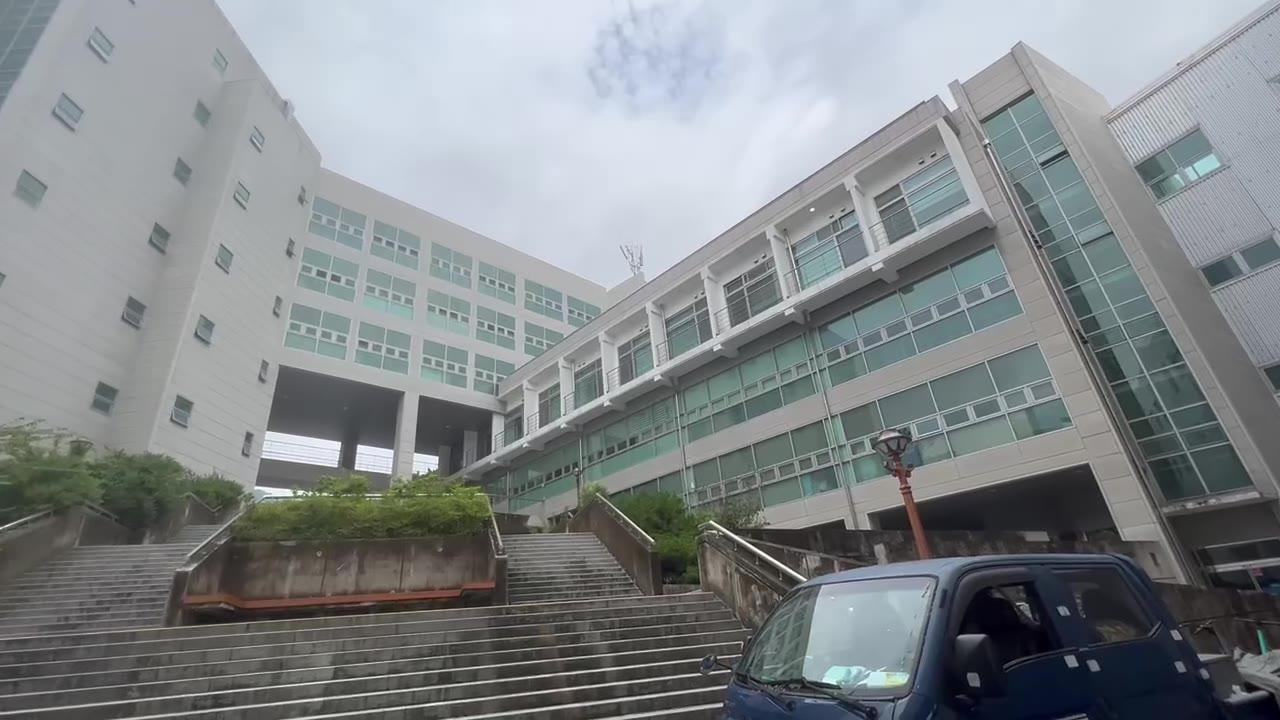building: (51, 78, 1258, 507)
